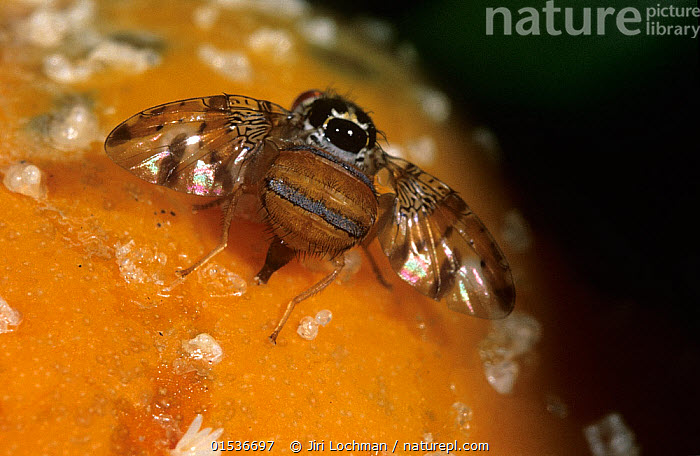Fruit fly: (127, 62, 552, 323)
